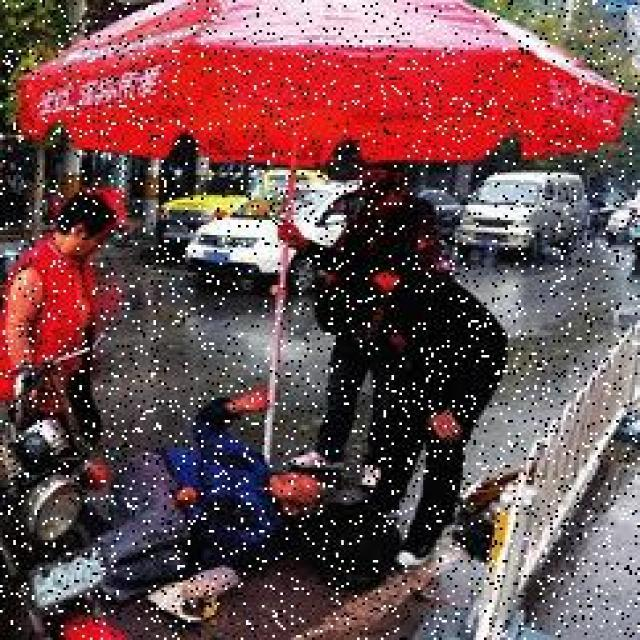fall: (98, 386, 299, 602)
